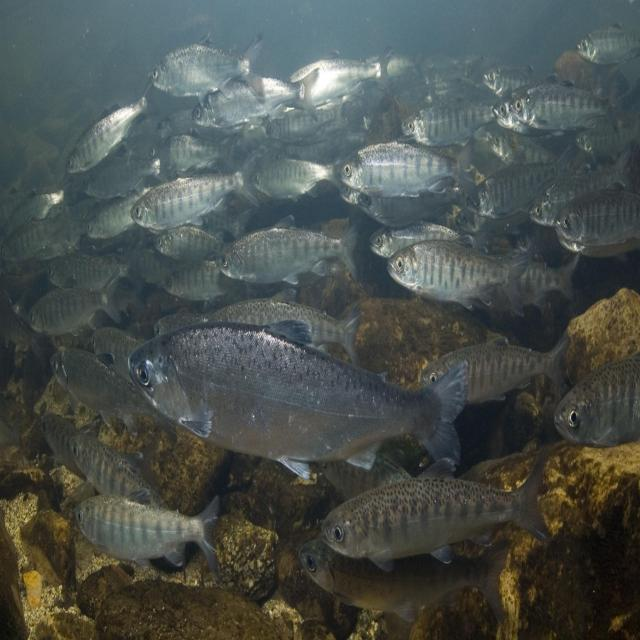salmon: (117, 294, 476, 484), (326, 454, 564, 568), (62, 478, 240, 584), (326, 124, 487, 220), (492, 53, 622, 152), (382, 238, 530, 316), (219, 214, 363, 289), (59, 85, 166, 183), (148, 20, 276, 100), (552, 347, 640, 453), (124, 163, 250, 223), (549, 197, 640, 278), (187, 76, 323, 130)
